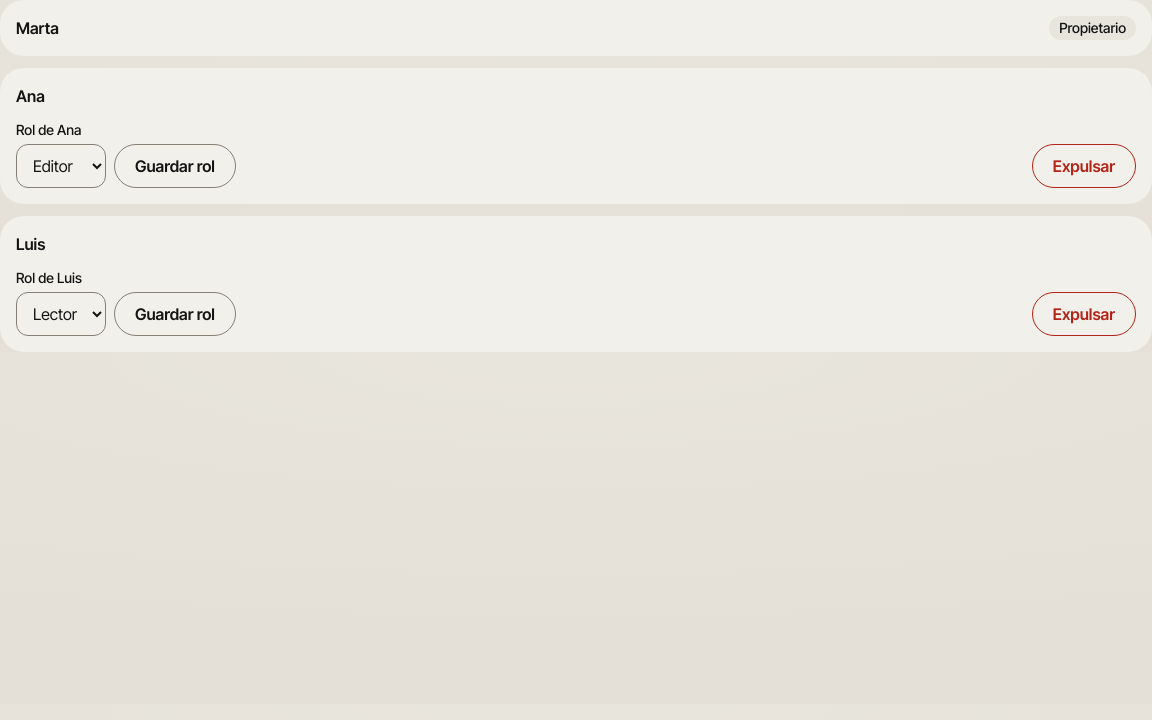
Test: MemberList (RF-24..RF-28) › shows the error of a role change (RF-28)
Click the button with aria-label "Guardar rol de Luis": coordinates (175, 314) [114,292,236,336]
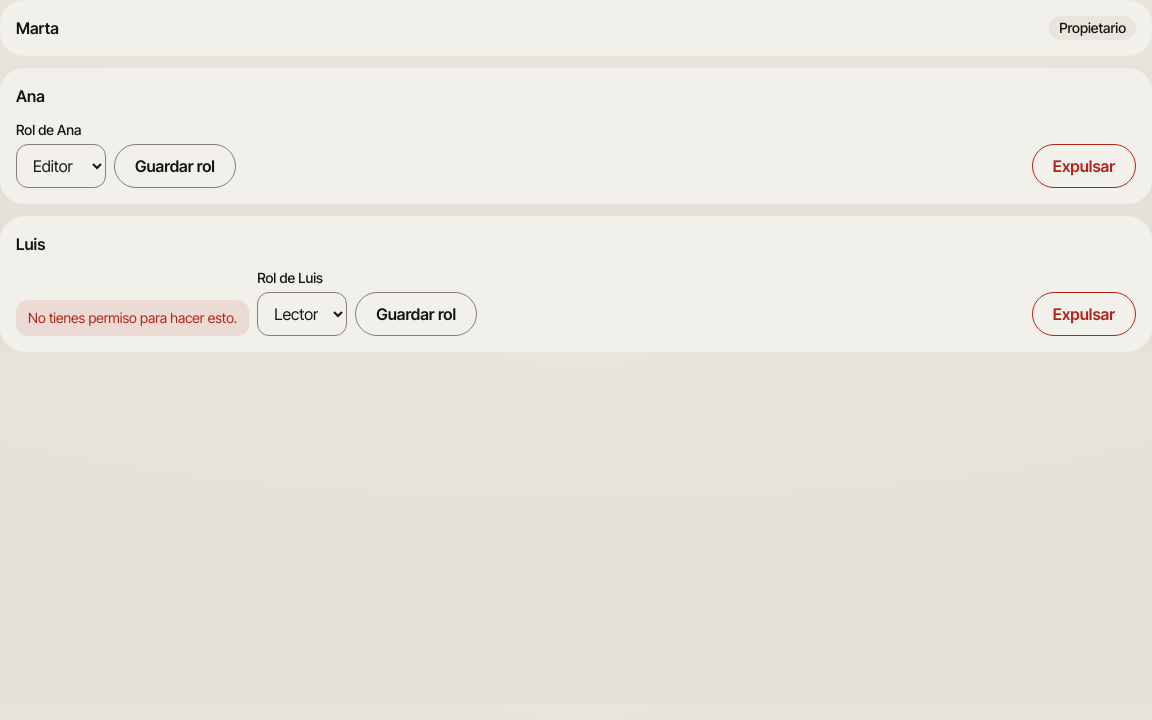
Result: the message reads "No tienes permiso para hacer esto." at [28,309,237,326]
